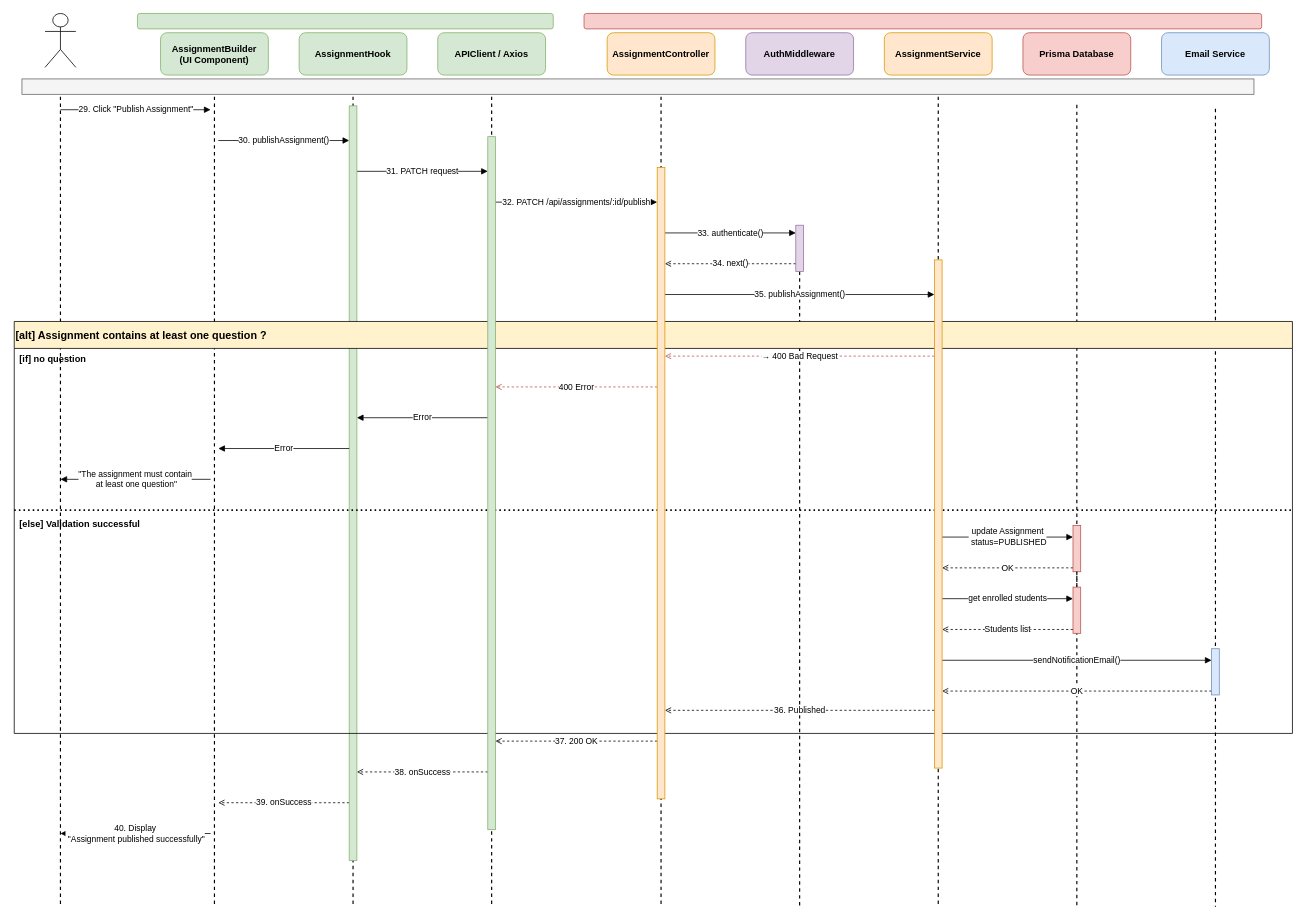
This 1306x922 diagram has some shape labels left out. Here are the shapes that lost their labels. From the top down, the centre of each, then its label:
At pixel 60 40: "Instructor".
At pixel 345 21: "Frontend".
At pixel 922 21: "Backend + db + Services".
At pixel 637 86: "Phase 3 — Publishing the Assignment".
